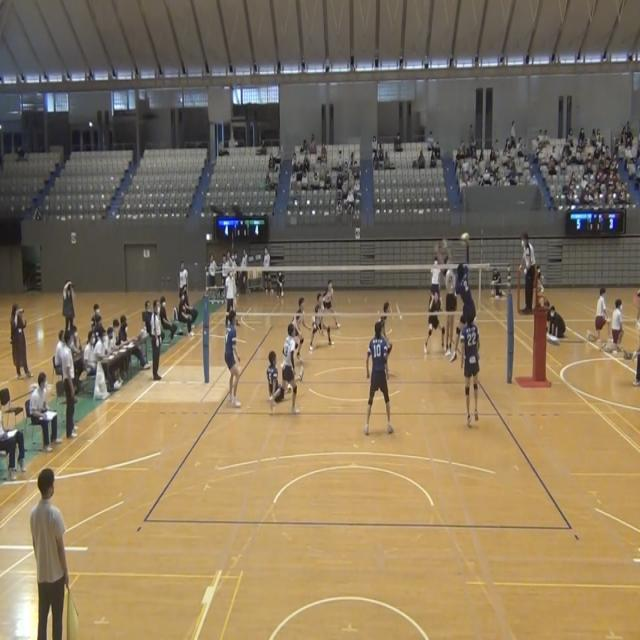spike: (452, 230, 479, 372)
